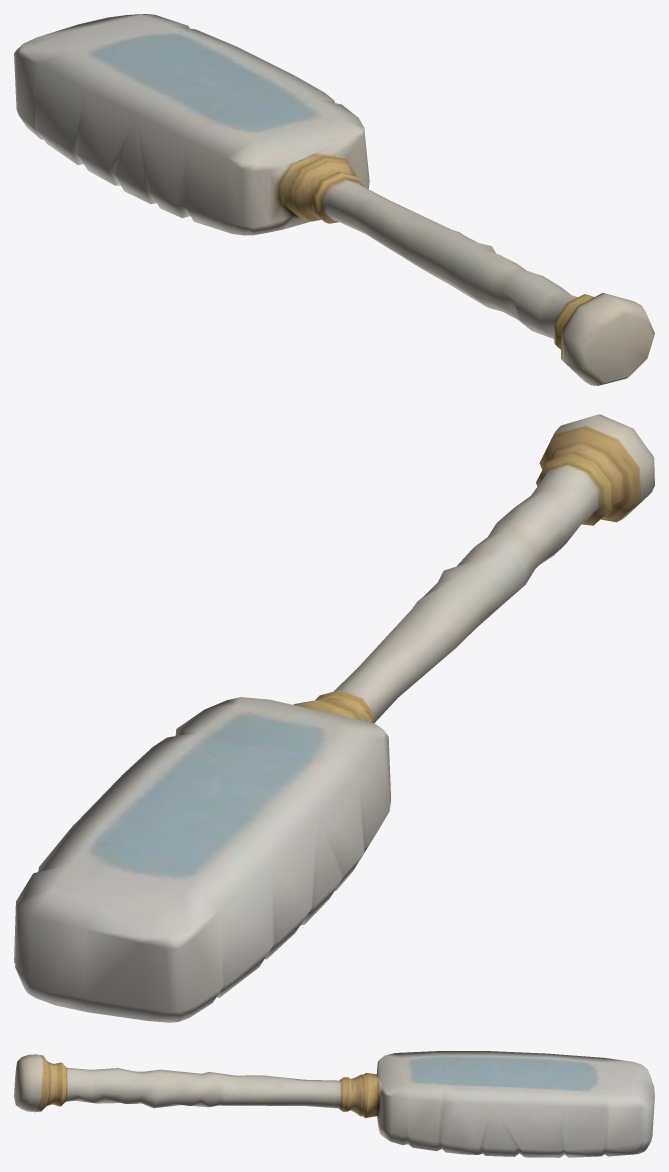
Rendered from f_warhammer.fbx.
The picture shows the model from 3 angles, top to bottom: view 1: azimuth 30°, elevation 25°; view 2: azimuth 150°, elevation 25°; view 3: azimuth 270°, elevation 25°; orthographic projection. The views are drawn at different scales.
Parts seen in each view (by area): view 1: tripo_node_f7c7b833-8455-4ced-96fb-a99582469710; view 2: tripo_node_f7c7b833-8455-4ced-96fb-a99582469710; view 3: tripo_node_f7c7b833-8455-4ced-96fb-a99582469710.
Boxes of the visible parts, bbox=[...] form: tripo_node_f7c7b833-8455-4ced-96fb-a99582469710: bbox=[14, 14, 654, 385]; tripo_node_f7c7b833-8455-4ced-96fb-a99582469710: bbox=[14, 414, 654, 1022]; tripo_node_f7c7b833-8455-4ced-96fb-a99582469710: bbox=[14, 1051, 654, 1157].
Size of the model in its own units: 0.3159 by 0.2393 by 1.5.
1 material, 1 textured.
